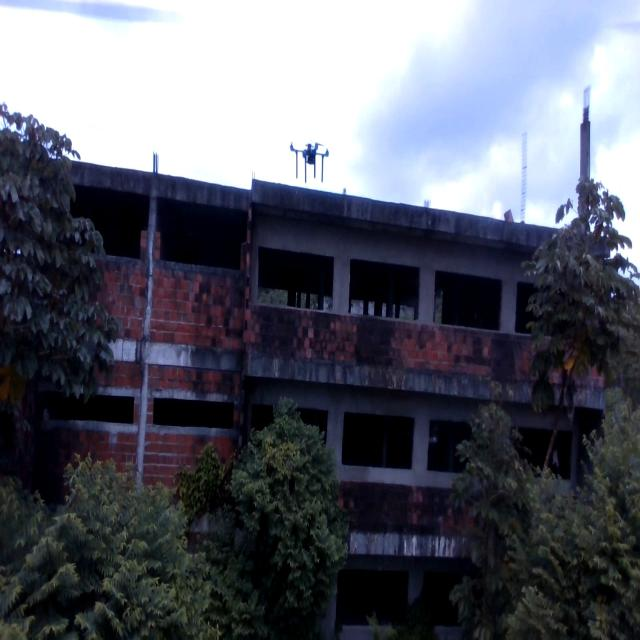-uav-: (280, 132, 346, 184)
